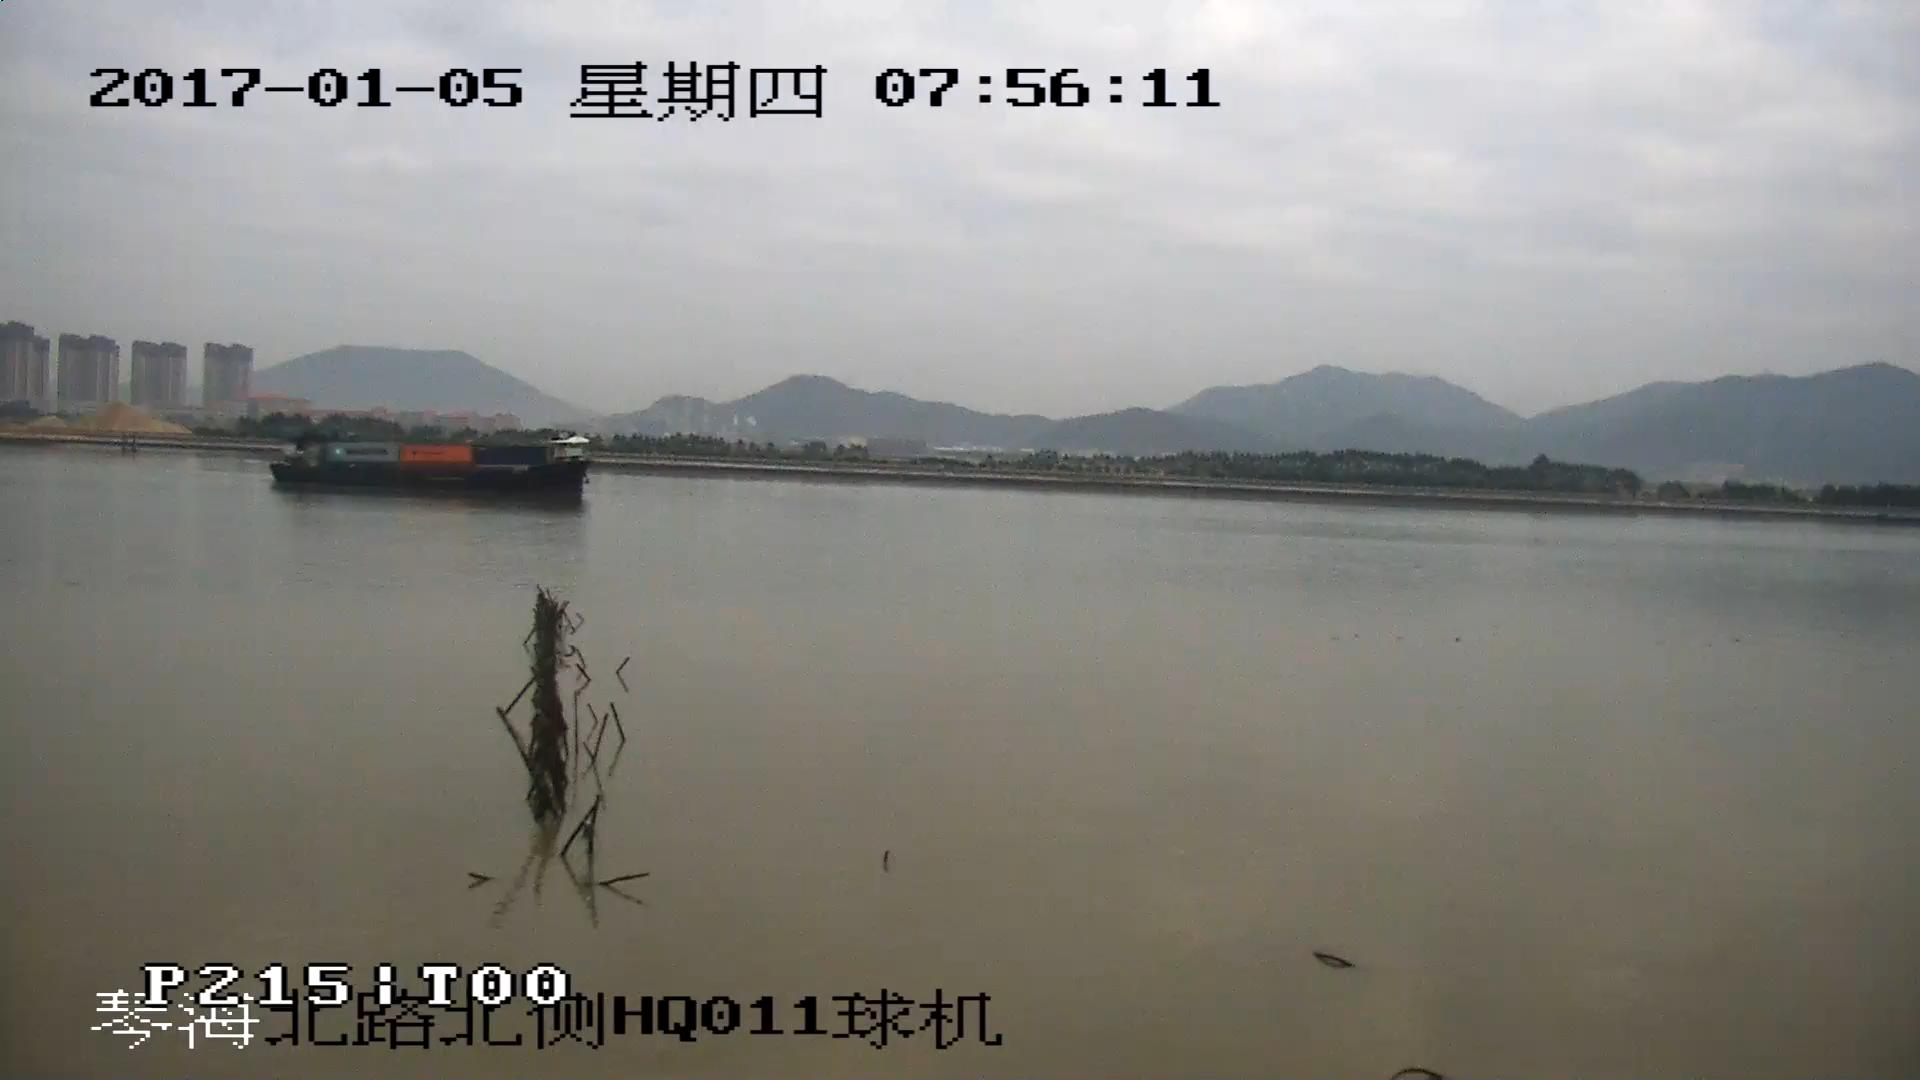container ship: (270, 436, 591, 500)
